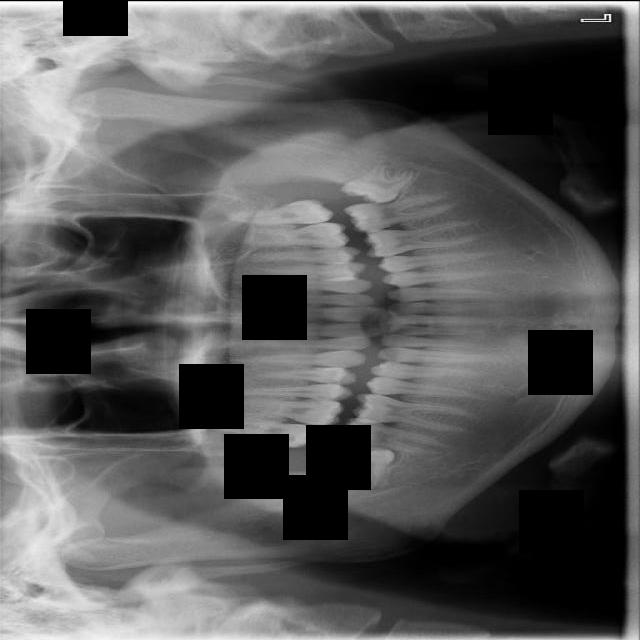52: (284, 434, 296, 442)
73: (616, 8, 618, 19)
BioHorizons Implant: (217, 196, 336, 229)
Biomet 3i Implant: (338, 146, 426, 222)
Blue Sky Bio Implant: (342, 191, 464, 235)
Caries: (209, 407, 324, 452)
Implant: (335, 415, 454, 457)
Keystone Dental Implant: (329, 443, 397, 491)
